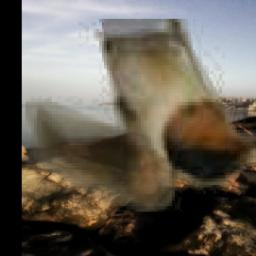Swallow: (26, 19, 256, 212)
